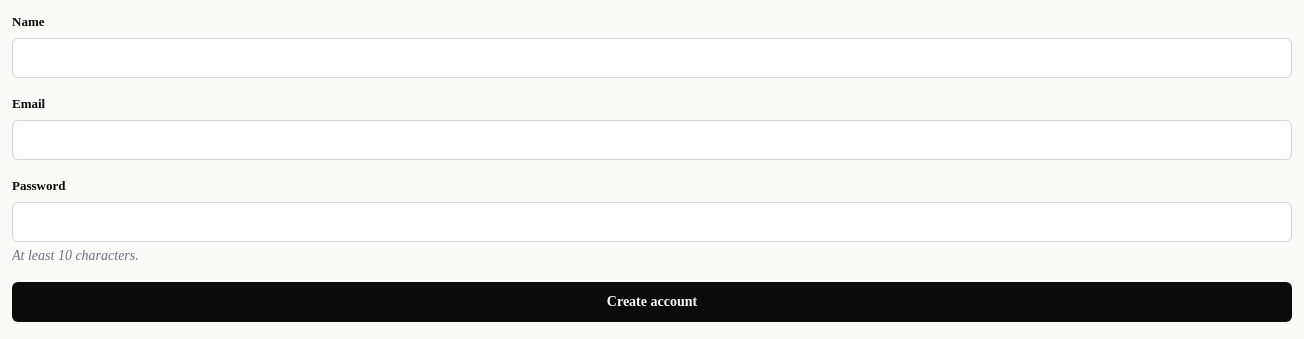
Test case: SignUpForm › the details are sent trimmed, then the same tab asks for the code
Type " Ana " into the field labelled "Name" at (652, 58), box [12,38,1292,78]
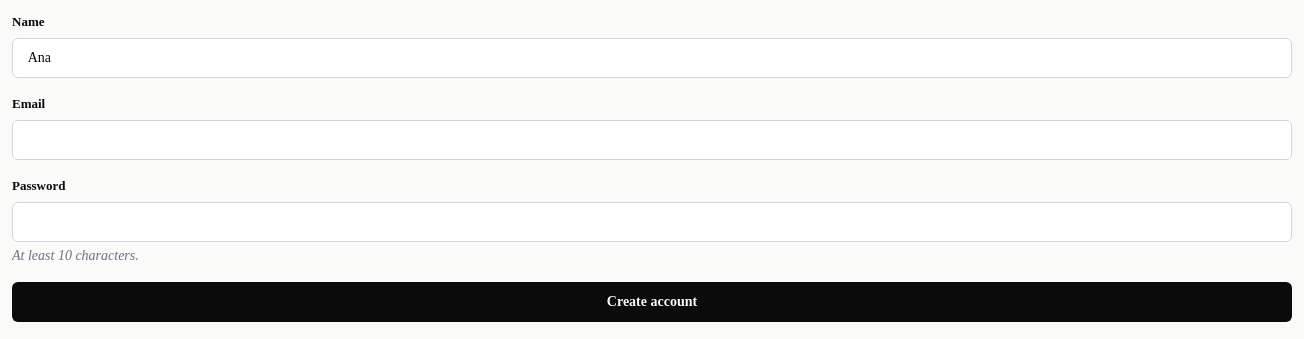
Type " ana@usp.br " into the field labelled "Email" at (652, 140), box [12,120,1292,160]
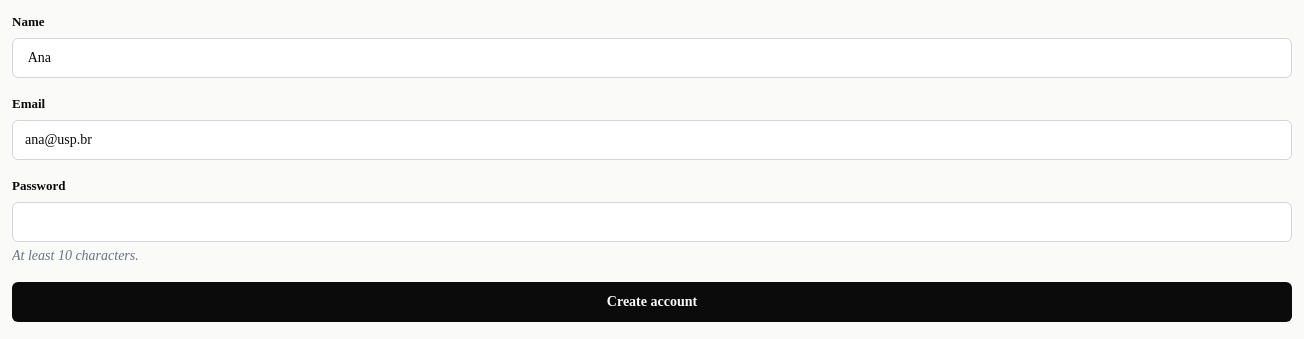
Type "a long password" into the password field labelled "Password" at (652, 222), box [12,202,1292,242]
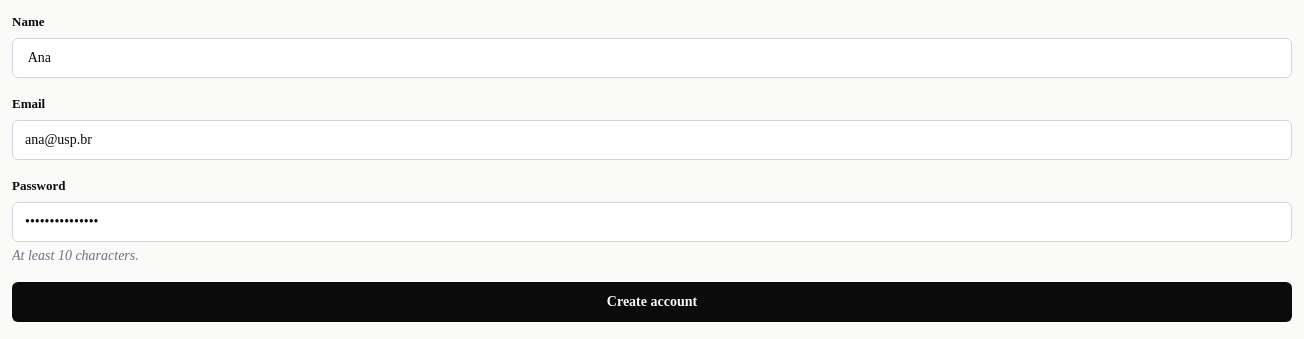
Click the button "Create account" at (652, 302), box [12,282,1292,322]
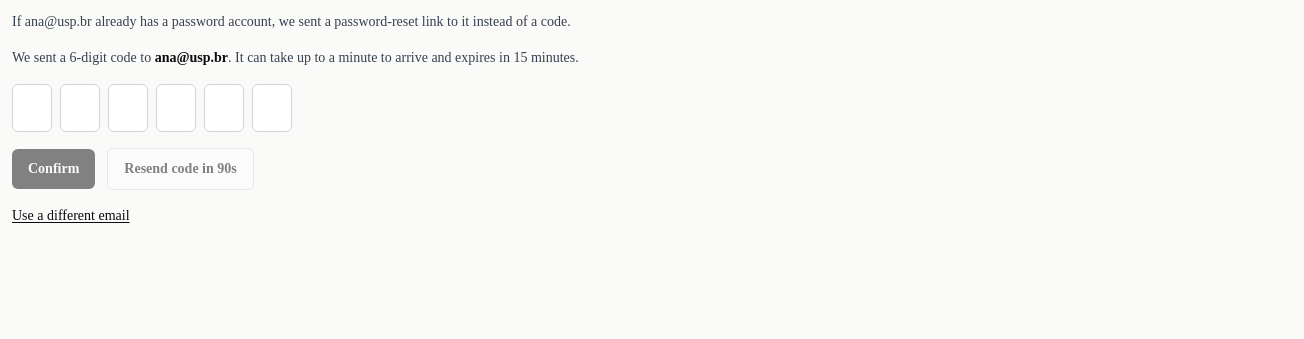
Result: the field named "Digit 1 of 6" is shown at [12,84,52,132]
Result: the text "ana@usp.br" is shown at [155,50,228,65]
